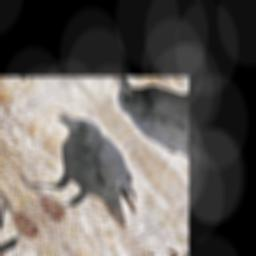Crow: (0, 102, 165, 253)
